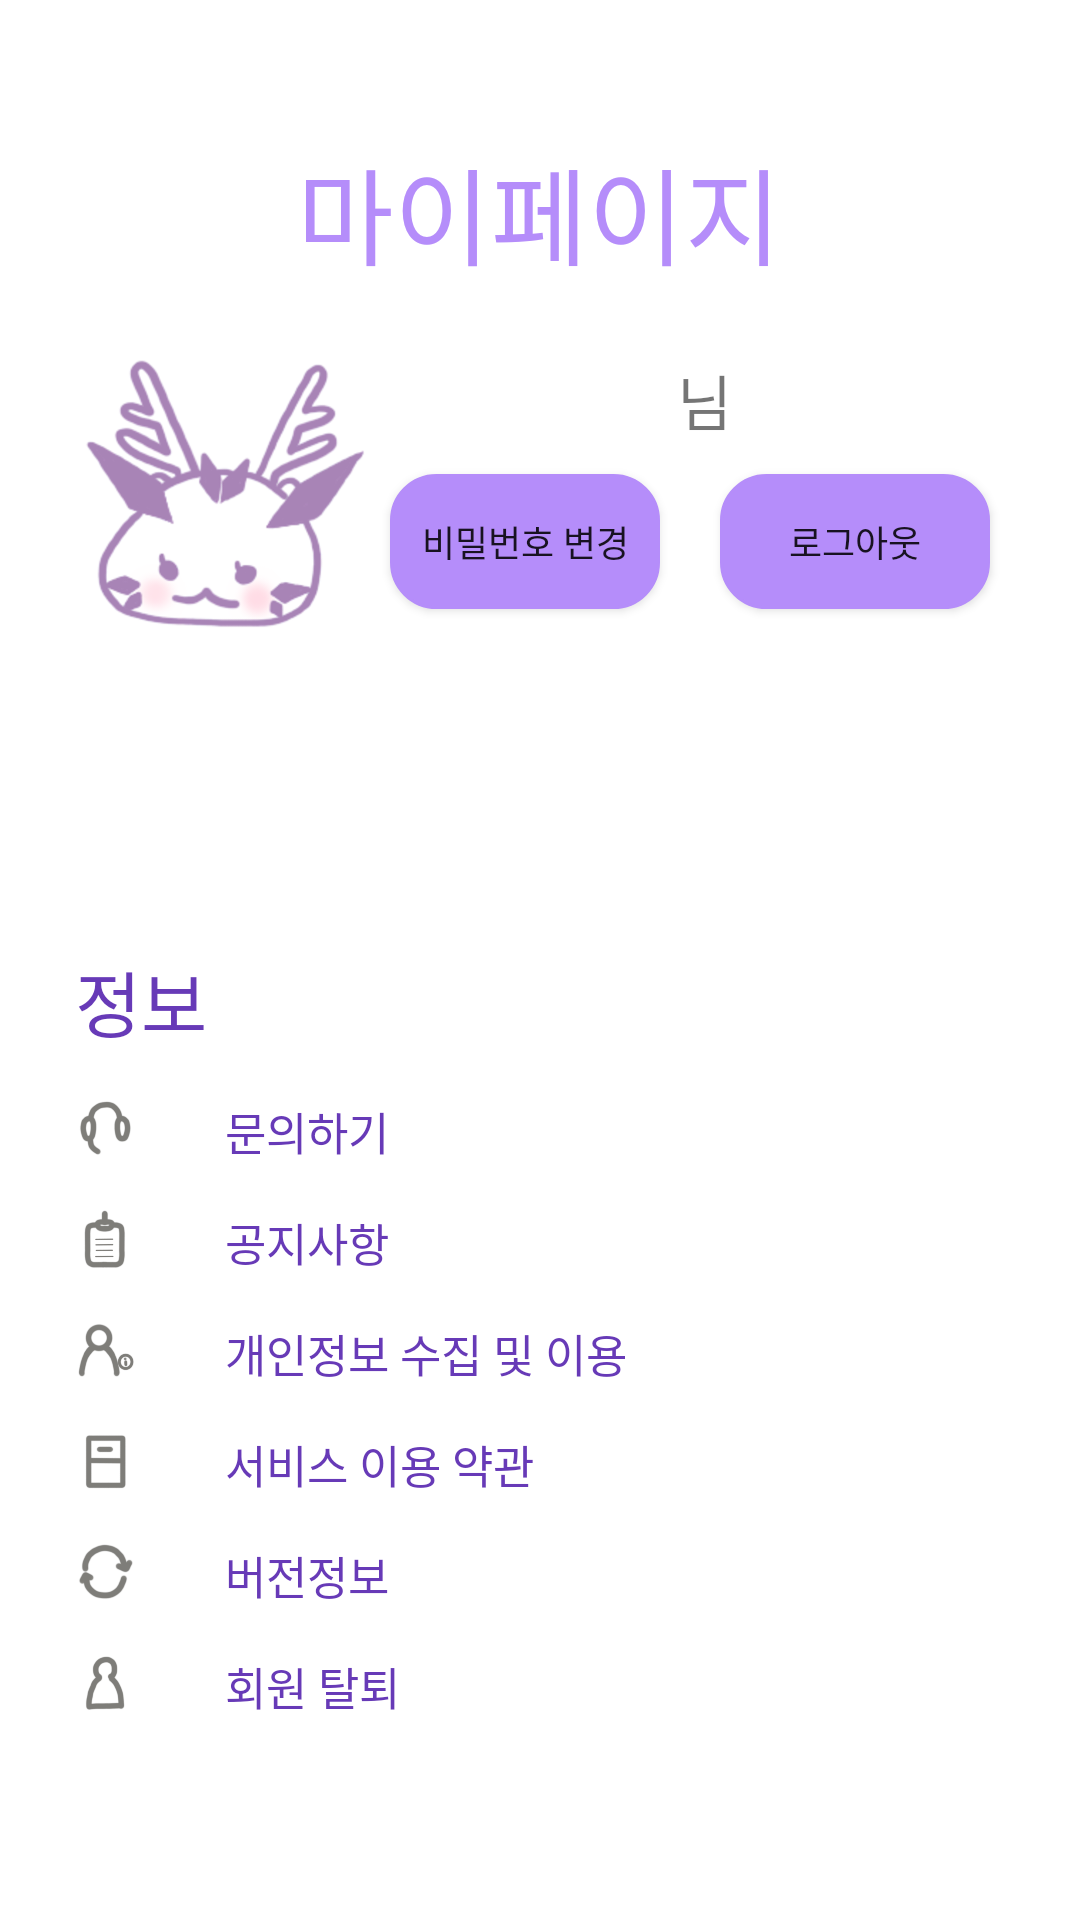

Locate icon controls on the screen. Image size 1080w x 1920h, boxes as [x1,y1,x2,y2].
head: [80,1102,131,1155]
info: [79,1324,134,1376]
